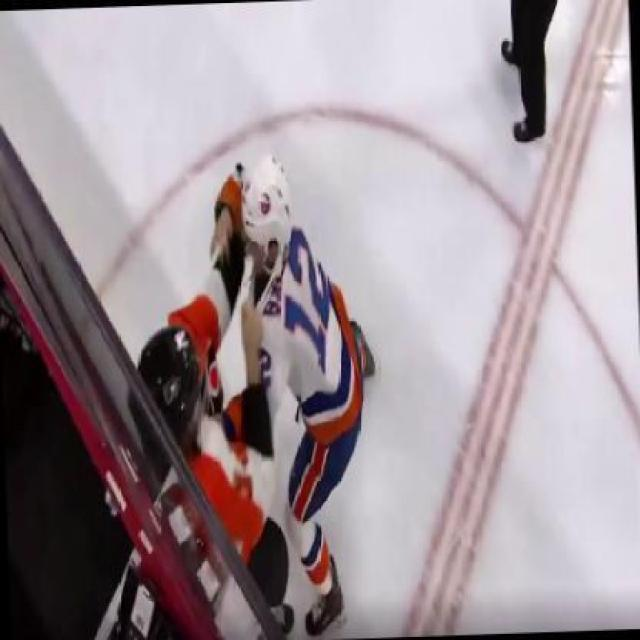fight: (130, 143, 378, 640)
